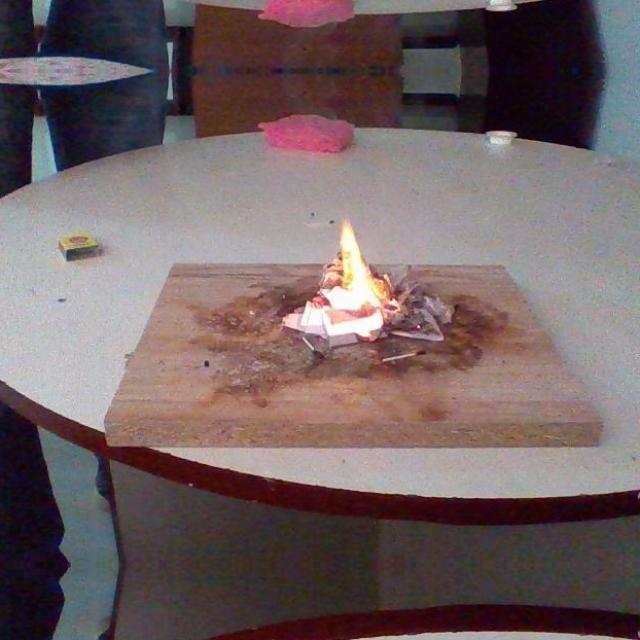smoke: (325, 218, 385, 305)
